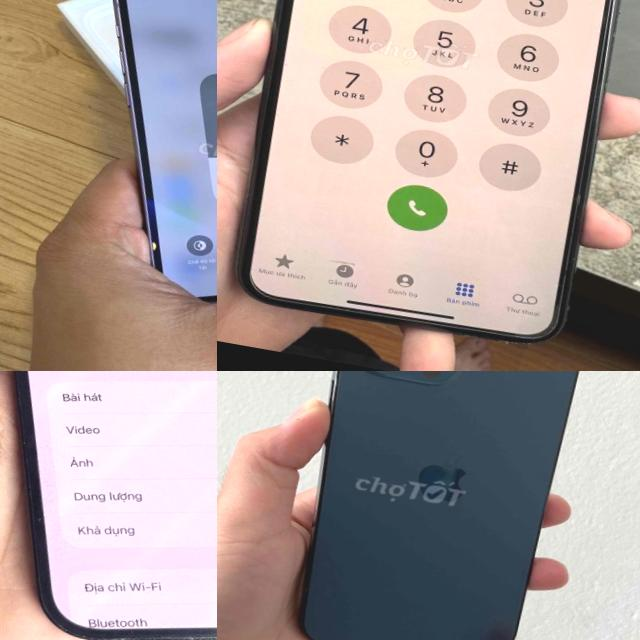gen_11: (236, 0, 619, 342)
gen_12_13: (279, 371, 585, 640), (53, 0, 217, 336)
gen_14: (0, 371, 217, 640)
